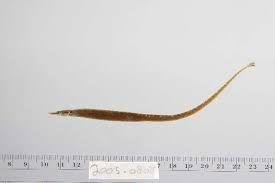Long-Snouted Pipefish: (47, 59, 257, 123)
